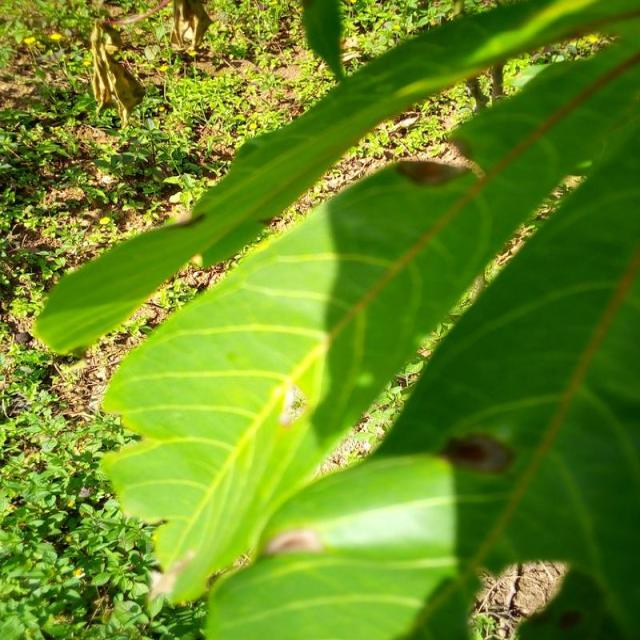cassava leaf: (34, 1, 639, 638)
